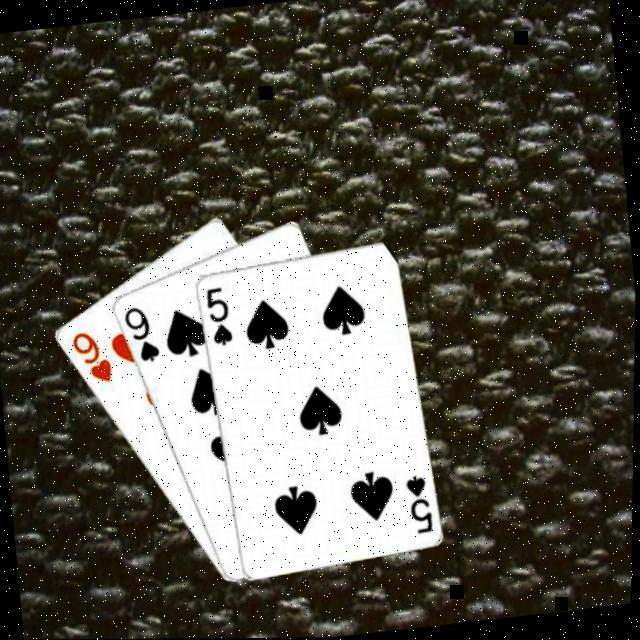5S: (400, 468, 436, 535), (200, 281, 234, 347)
9H: (66, 324, 114, 386)
9S: (117, 299, 162, 365)
